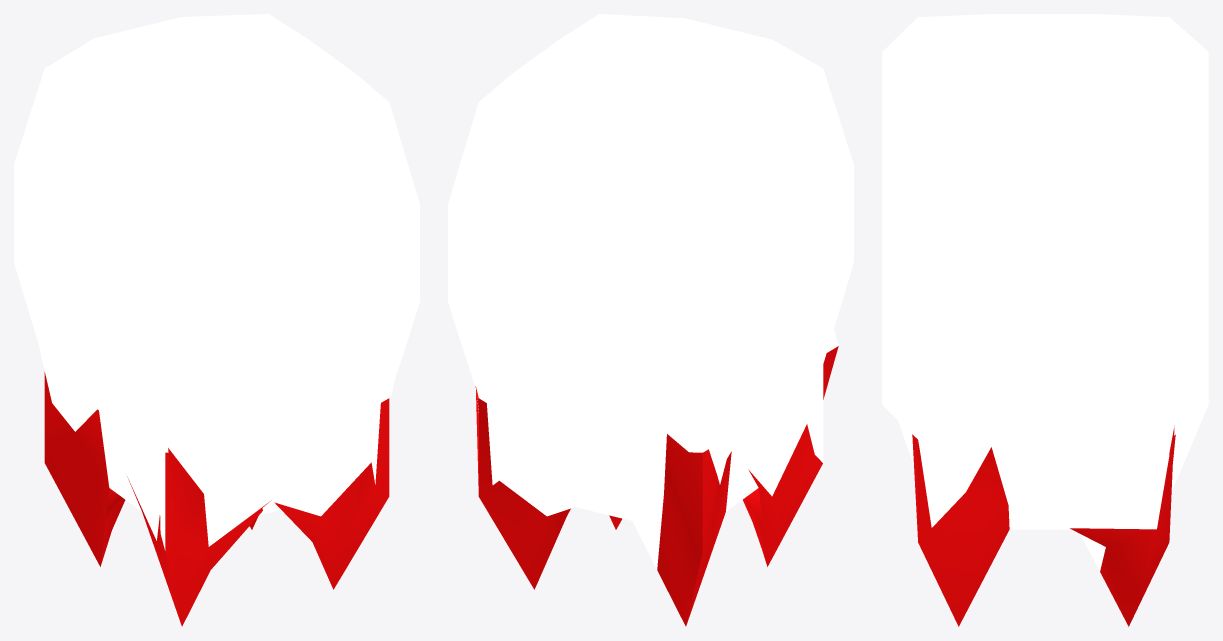
Rendered from tooth.gltf.
3 renders of one model, left to right at view 1: azimuth 30°, elevation 25°; view 2: azimuth 150°, elevation 25°; view 3: azimuth 270°, elevation 25°, orthographic. The views are drawn at different scales.
Visible parts, largest first — view 1: toothExp; view 2: toothExp; view 3: toothExp.
Part boxes in pixels (x1,y1,x2,y2): toothExp: [14, 14, 419, 626]; toothExp: [448, 14, 853, 626]; toothExp: [882, 14, 1208, 626].
Size of the model in its own units: 1.96 by 3.5 by 2.01.
